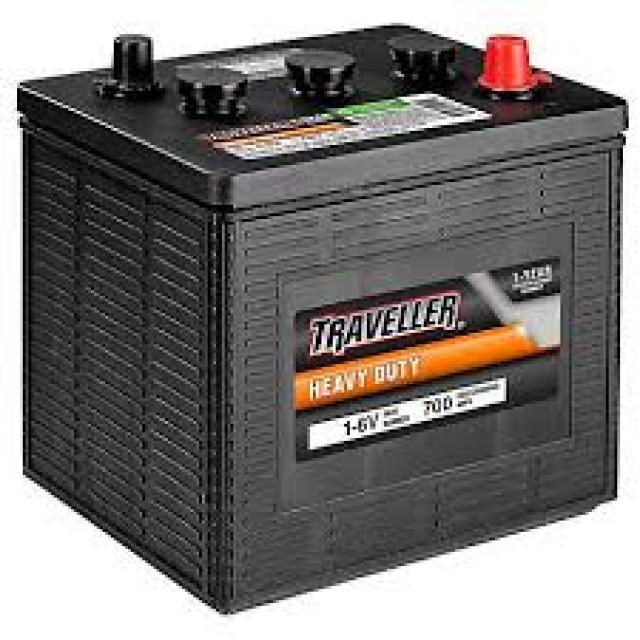hazard: (20, 66, 626, 558)
